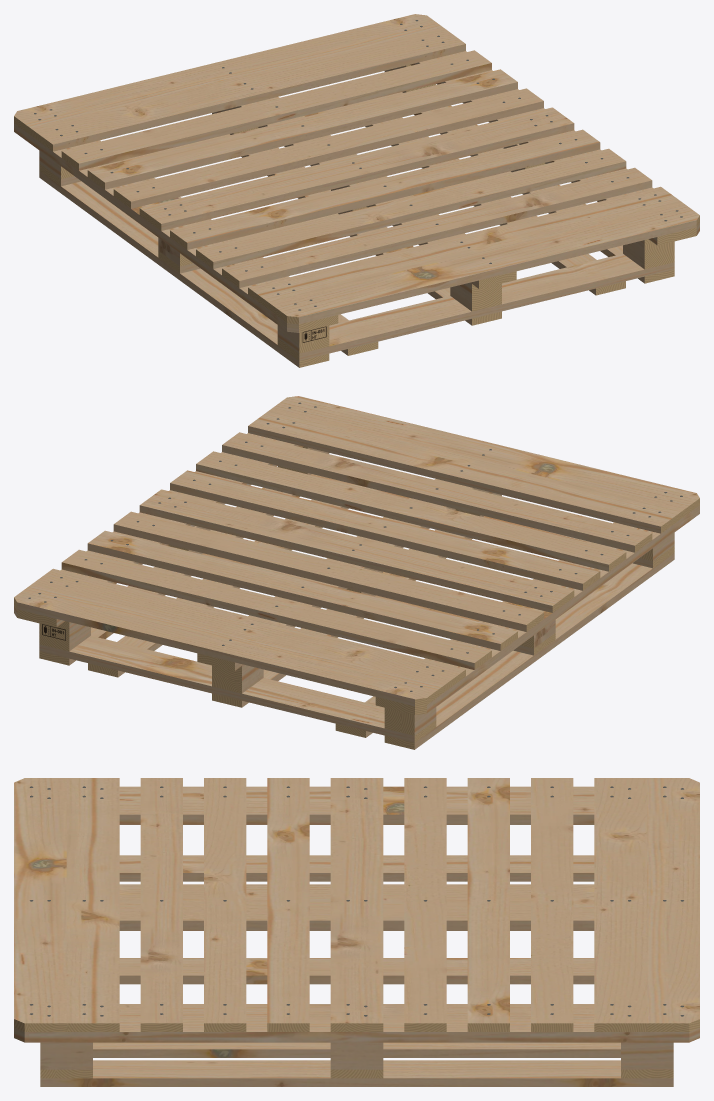
The model's file is cp7-type-pallet-1300x1100.glb.
3 renders of one model, top to bottom at view 1: azimuth 30°, elevation 25°; view 2: azimuth 150°, elevation 25°; view 3: azimuth 270°, elevation 25°, orthographic. The views are drawn at different scales.
Visible parts, largest first — view 1: cp7-type-pallet-1300x1100; view 2: cp7-type-pallet-1300x1100; view 3: cp7-type-pallet-1300x1100.
Part boxes in pixels (x1=…): cp7-type-pallet-1300x1100: x1=14, y1=14, x2=699, y2=367; cp7-type-pallet-1300x1100: x1=14, y1=396, x2=699, y2=749; cp7-type-pallet-1300x1100: x1=14, y1=778, x2=699, y2=1086.
Bounding box in the file's own units: 1.1 × 0.157 × 1.3.
4 materials, 3 textured.
